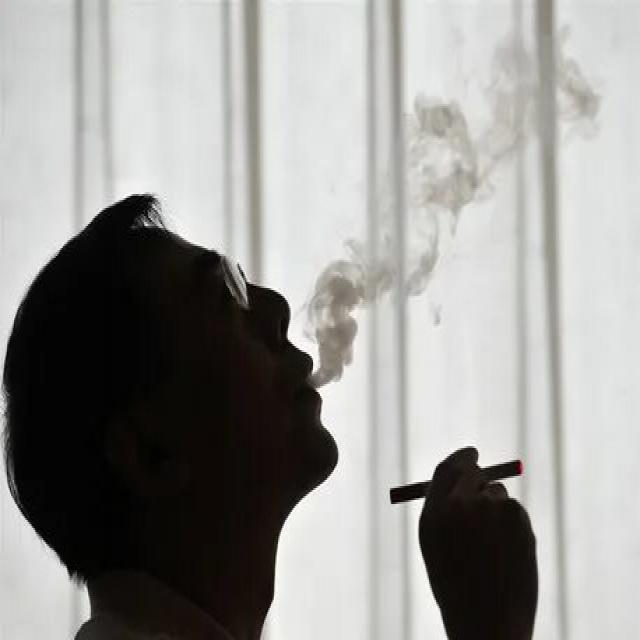smoke: (388, 450, 530, 514)
